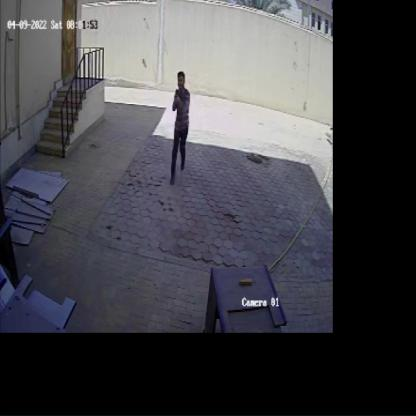handgun: (171, 85, 186, 109)
